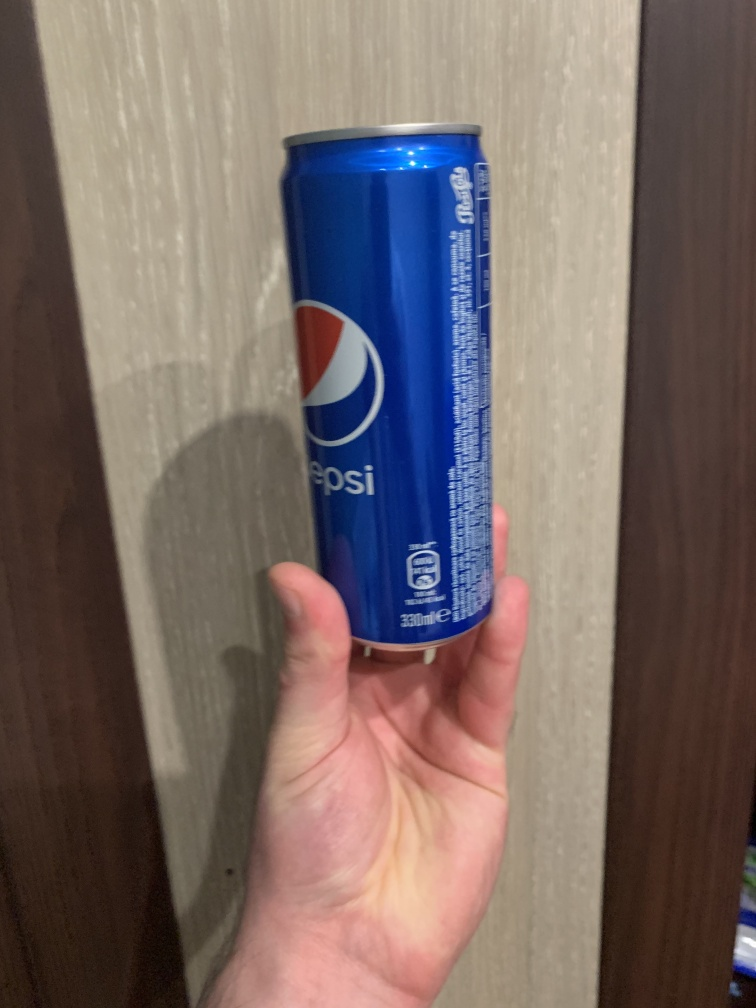pepsi: (275, 118, 505, 659)
